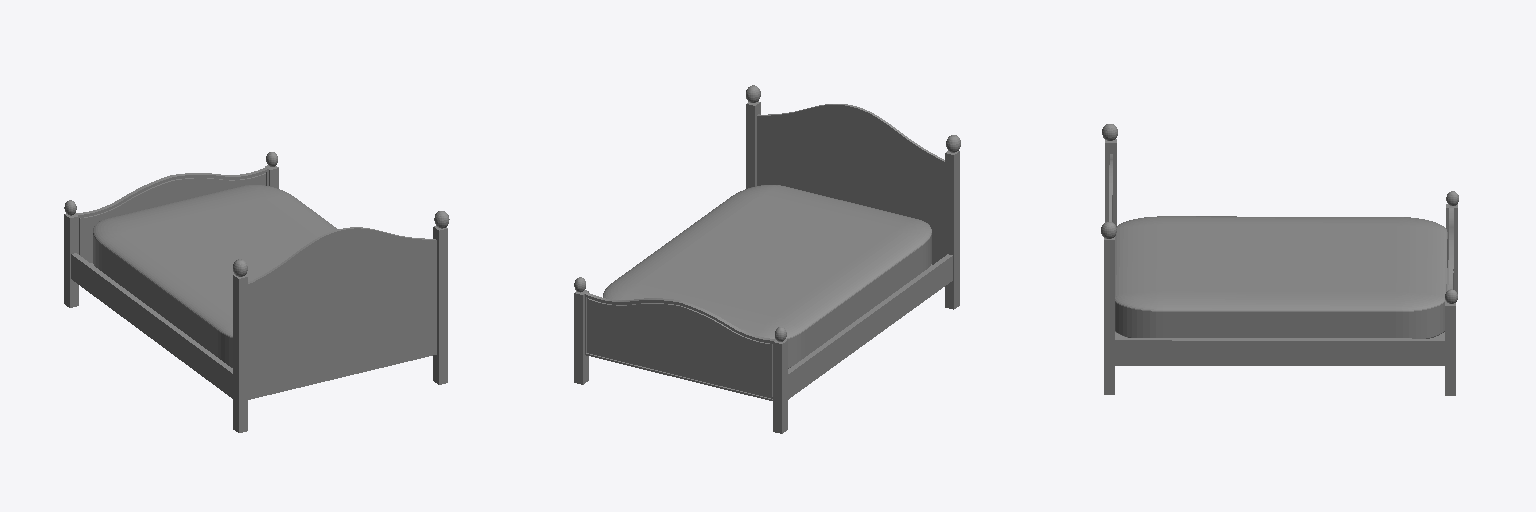
File: cama.obj
3 renders of one model, left to right at view 1: azimuth 30°, elevation 25°; view 2: azimuth 150°, elevation 25°; view 3: azimuth 270°, elevation 25°, orthographic.
Parts seen in each view (by area): view 1: Layer0_001, Group_001; view 2: Layer0_001, Group_001; view 3: Group_001, Layer0_001.
Part boxes in pixels (x1,y1,x2,y2): Layer0_001: (64, 152, 449, 432); Group_001: (93, 185, 338, 367); Layer0_001: (574, 85, 960, 433); Group_001: (603, 185, 931, 368); Group_001: (1115, 216, 1447, 338); Layer0_001: (1101, 124, 1458, 395).
Bounding box in the file's own units: 31.56 × 24.78 × 45.75.